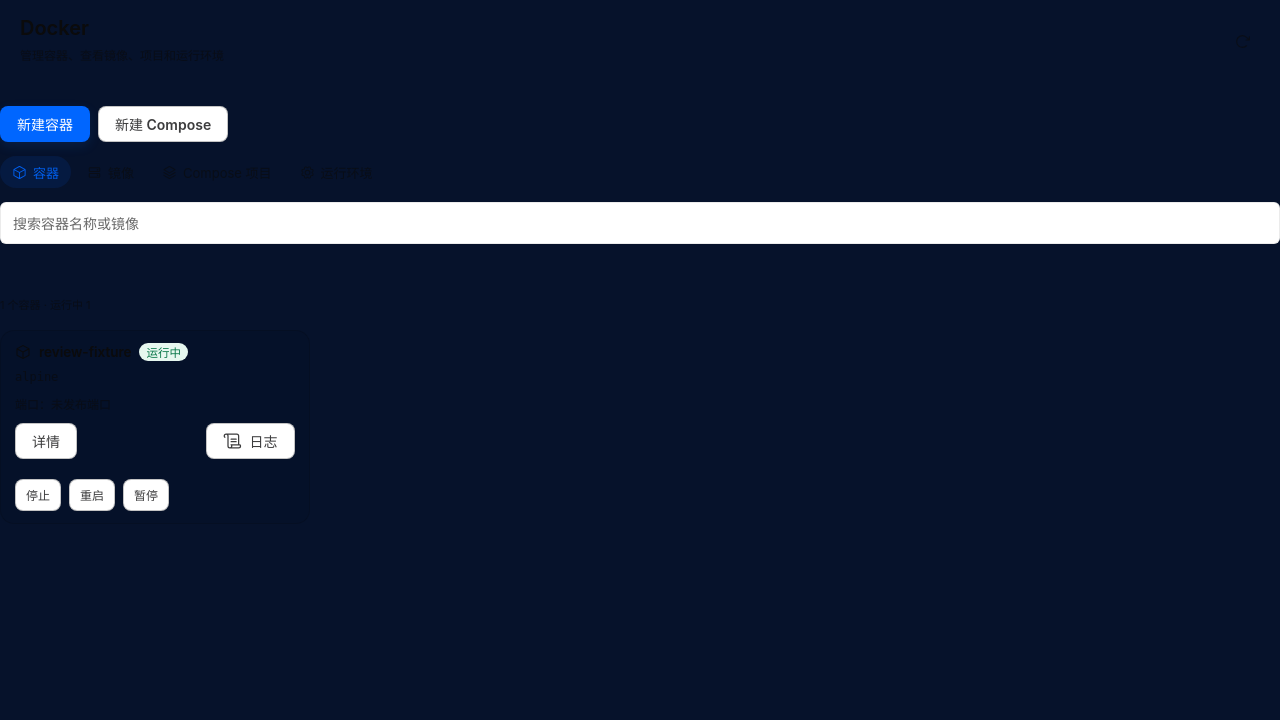
Test case: shows log read failures without inventing empty log content
Click the button with aria-label "查看review-fixture日志". click: (250, 441)
box: [206,423,294,459]
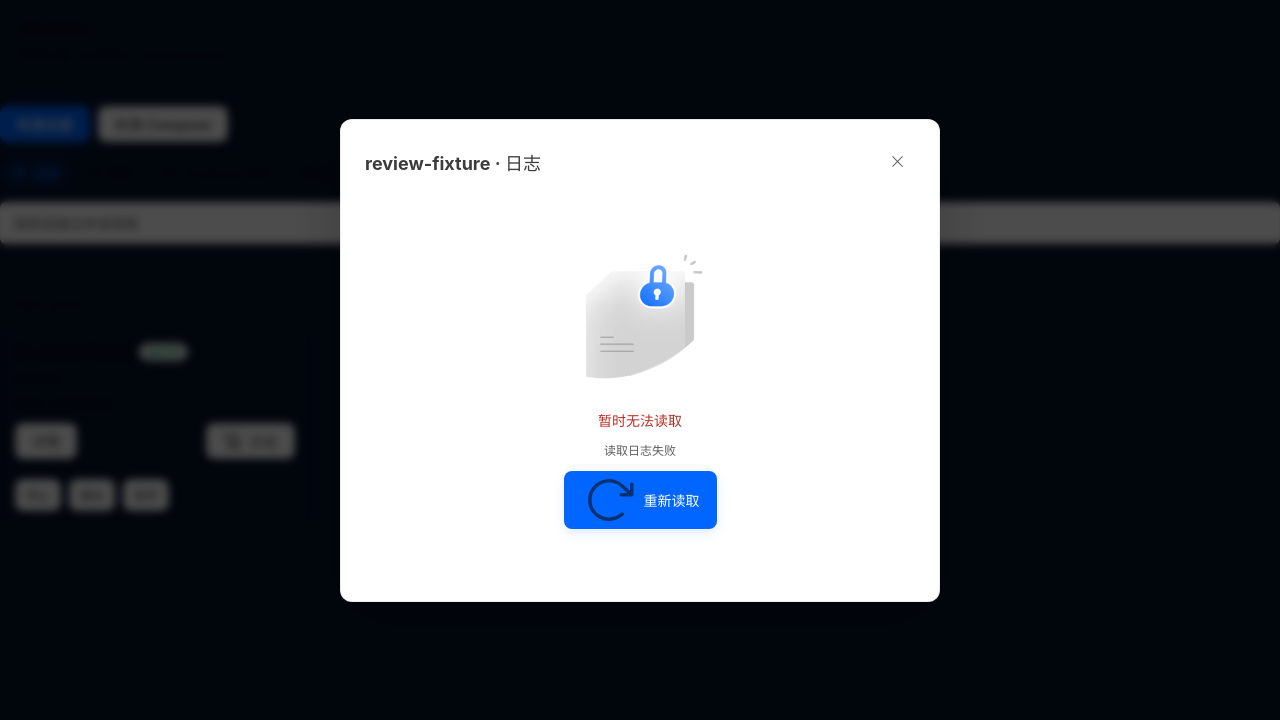
Check: the text "读取日志失败" is shown, box [604,440,676,460]
